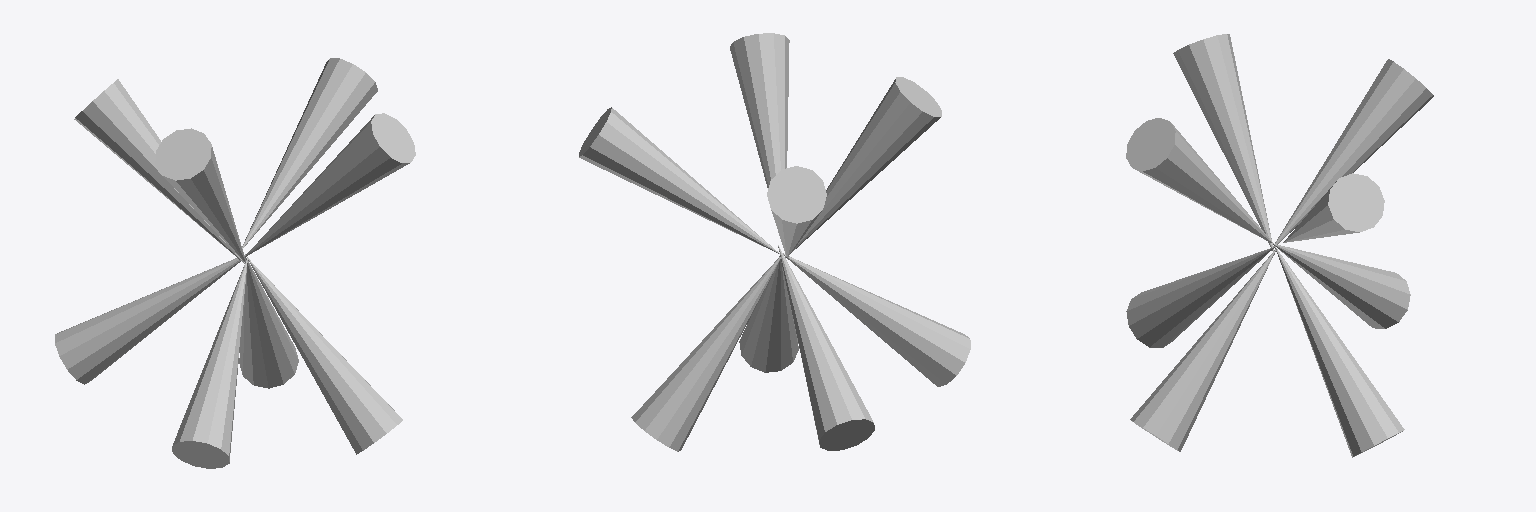
The model's file is Laser - Spark.obj.
The picture shows the model from 3 angles: view 1: azimuth 30°, elevation 25°; view 2: azimuth 150°, elevation 25°; view 3: azimuth 270°, elevation 25°; orthographic projection.
Visible parts, largest first — view 1: group[number redacted], group[number redacted], group[number redacted], group[number redacted], group[number redacted], group[number redacted], group[number redacted], group[number redacted]; view 2: group[number redacted], group[number redacted], group[number redacted], group[number redacted], group[number redacted], group[number redacted], group[number redacted], group[number redacted]; view 3: group[number redacted], group[number redacted], group[number redacted], group[number redacted], group[number redacted], group[number redacted], group[number redacted], group[number redacted].
Boxes of the visible parts, x1,y1,x2,y2 form: group[number redacted]: [242, 58, 377, 248]; group[number redacted]: [172, 257, 247, 468]; group[number redacted]: [55, 254, 246, 384]; group[number redacted]: [248, 258, 402, 454]; group[number redacted]: [245, 113, 415, 256]; group[number redacted]: [74, 79, 244, 263]; group[number redacted]: [155, 128, 245, 261]; group[number redacted]: [239, 258, 298, 388]; group[number redacted]: [579, 107, 780, 254]; group[number redacted]: [631, 253, 783, 451]; group[number redacted]: [778, 245, 874, 450]; group[number redacted]: [783, 254, 970, 386]; group[number redacted]: [785, 77, 941, 257]; group[number redacted]: [730, 33, 789, 254]; group[number redacted]: [739, 256, 798, 372]; group[number redacted]: [767, 166, 826, 257]; group[number redacted]: [1173, 34, 1274, 254]; group[number redacted]: [1130, 248, 1276, 451]; group[number redacted]: [1275, 247, 1404, 457]; group[number redacted]: [1273, 59, 1433, 246]; group[number redacted]: [1126, 118, 1273, 243]; group[number redacted]: [1126, 247, 1274, 347]; group[number redacted]: [1272, 243, 1410, 328]; group[number redacted]: [1283, 173, 1384, 242].
Bounding box in the file's own units: 0.2318 × 0.2544 × 0.2039.